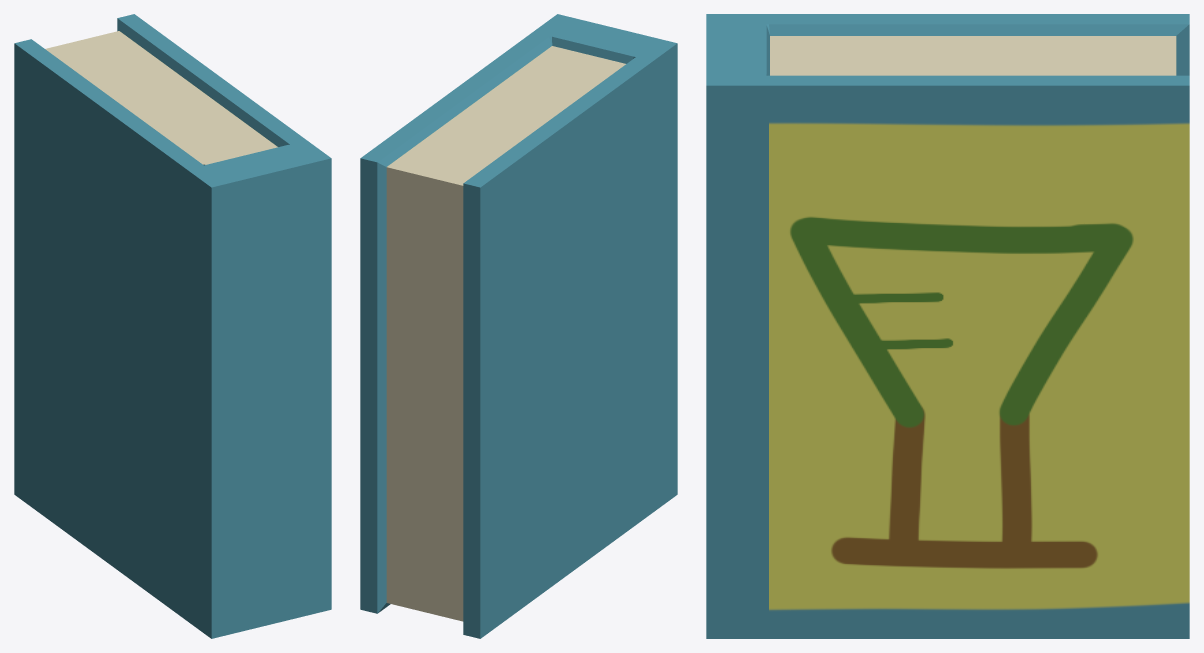
The model's file is Livre.glb.
The picture shows the model from 3 angles, left to right: view 1: azimuth 30°, elevation 25°; view 2: azimuth 150°, elevation 25°; view 3: azimuth 270°, elevation 25°; orthographic projection. The views are drawn at different scales.
Parts seen in each view (by area): view 1: Livre; view 2: Livre; view 3: Livre.
Boxes of the visible parts, bbox=[...] form: Livre: bbox=[14, 14, 331, 638]; Livre: bbox=[360, 14, 677, 638]; Livre: bbox=[706, 14, 1189, 638].
Bounding box in the file's own units: 0.0386 × 0.1389 × 0.1099.
Materials: 1 (1 with a texture image).
